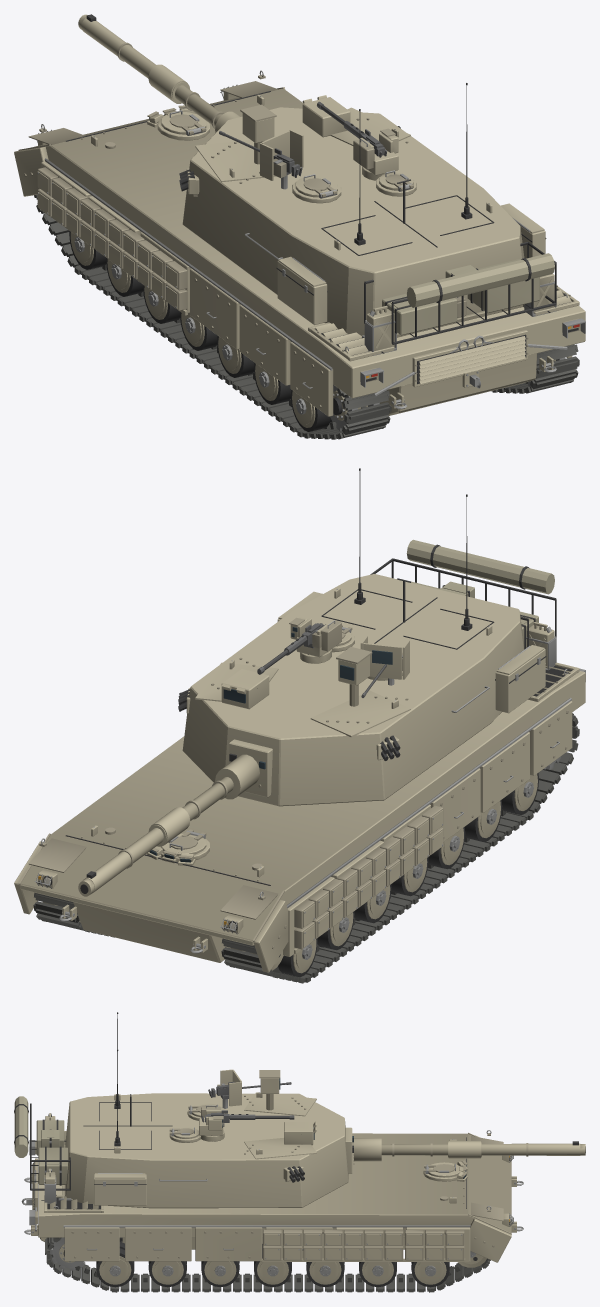
File: usa_mbt_s2.glb
The picture shows the model from 3 angles, top to bottom: view 1: azimuth 30°, elevation 25°; view 2: azimuth 150°, elevation 25°; view 3: azimuth 270°, elevation 25°; orthographic projection. The views are drawn at different scales.
Visible parts, largest first — view 1: body, turret, barrel; view 2: body, turret, barrel; view 3: body, turret, barrel.
Part boxes in pixels (left/top/right/bottom): body: left=14, top=70, right=585, bottom=439; turret: left=179, top=83, right=556, bottom=344; barrel: left=78, top=14, right=240, bottom=132; body: left=14, top=622, right=585, bottom=983; turret: left=178, top=468, right=556, bottom=806; barrel: left=78, top=754, right=259, bottom=896; body: left=21, top=1113, right=523, bottom=1292; turret: left=14, top=1012, right=354, bottom=1208; barrel: left=354, top=1138, right=585, bottom=1161.
Bounding box in the file's own units: 3.68 × 4.09 × 9.58.
